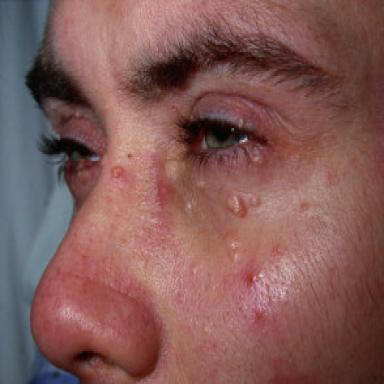Molluscum-Contagiosum: (225, 231, 243, 265), (227, 195, 247, 218), (248, 144, 268, 166), (251, 273, 263, 291), (111, 166, 125, 178), (249, 196, 261, 208), (301, 203, 309, 212)
